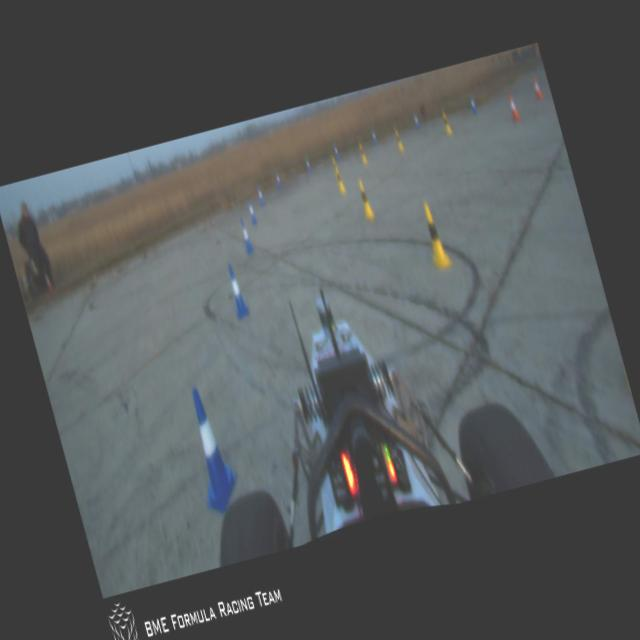blue_cone: (178, 384, 245, 515), (223, 263, 250, 320), (237, 219, 255, 254), (246, 198, 258, 224), (468, 94, 478, 115), (370, 128, 380, 148), (256, 186, 266, 205), (274, 170, 283, 190), (412, 113, 421, 132), (304, 156, 312, 174), (332, 144, 340, 160)
orange_cone: (504, 92, 520, 122), (530, 74, 545, 103)
yellow_cone: (418, 201, 452, 271), (356, 180, 374, 218), (333, 165, 346, 193), (440, 111, 453, 136), (357, 142, 368, 164), (393, 128, 404, 150), (330, 158, 340, 178)
